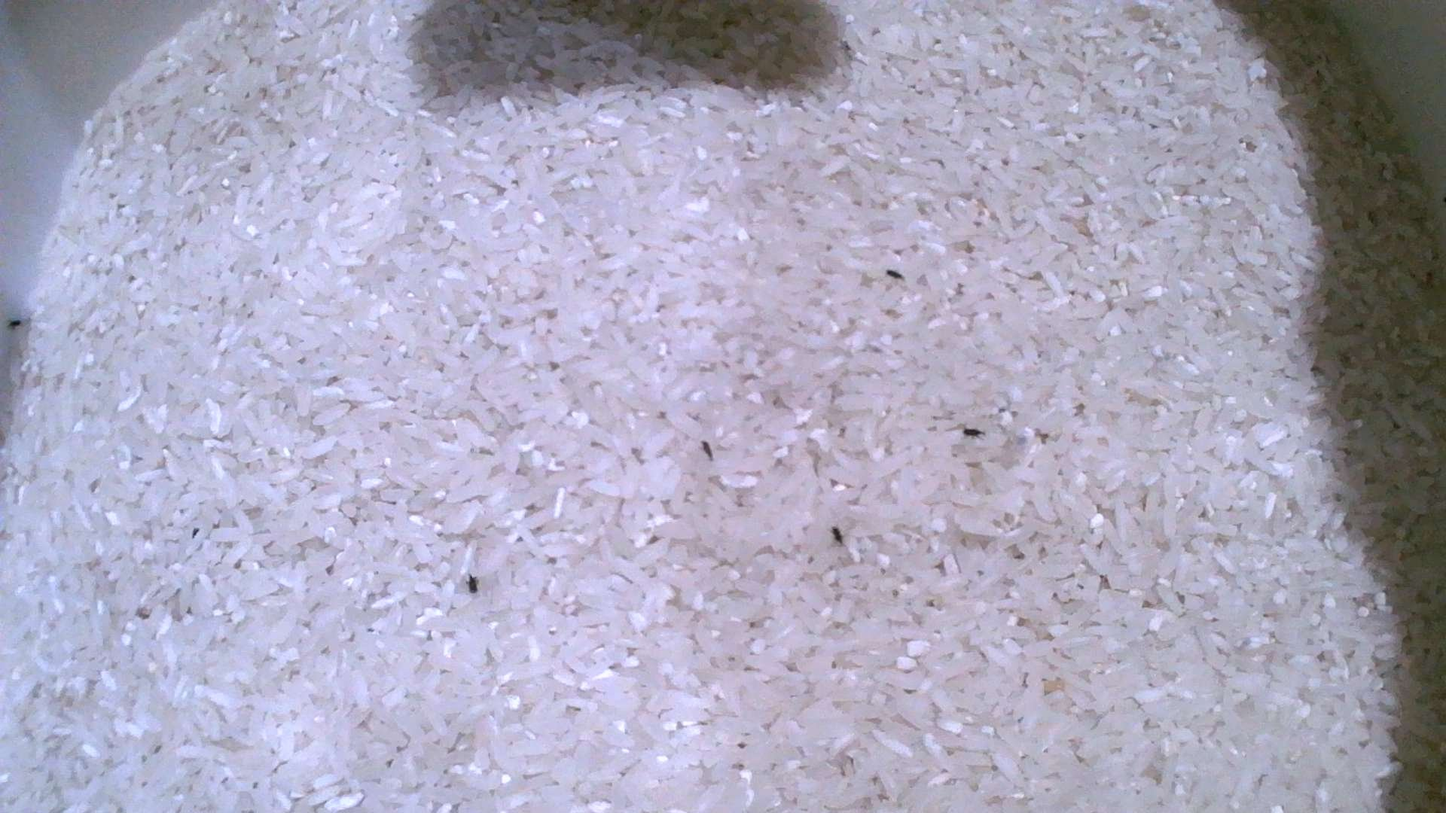Sitophilus-Oryzae: (831, 526, 843, 544), (962, 428, 984, 437), (8, 318, 23, 329), (468, 574, 477, 592)
